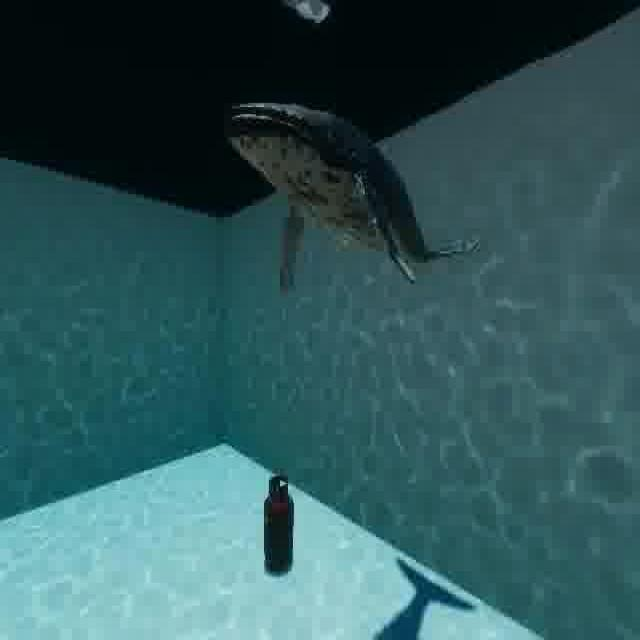Cylinder: (258, 462, 301, 591)
Whale: (212, 85, 493, 337)
